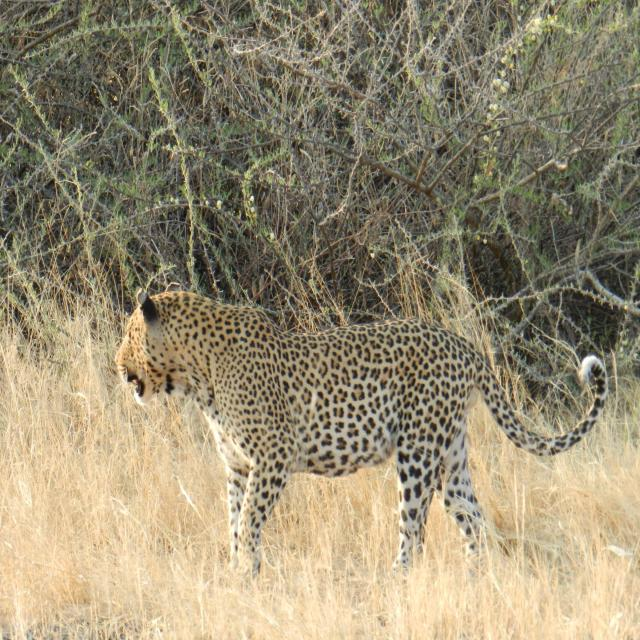Leopard: (120, 287, 608, 589)
